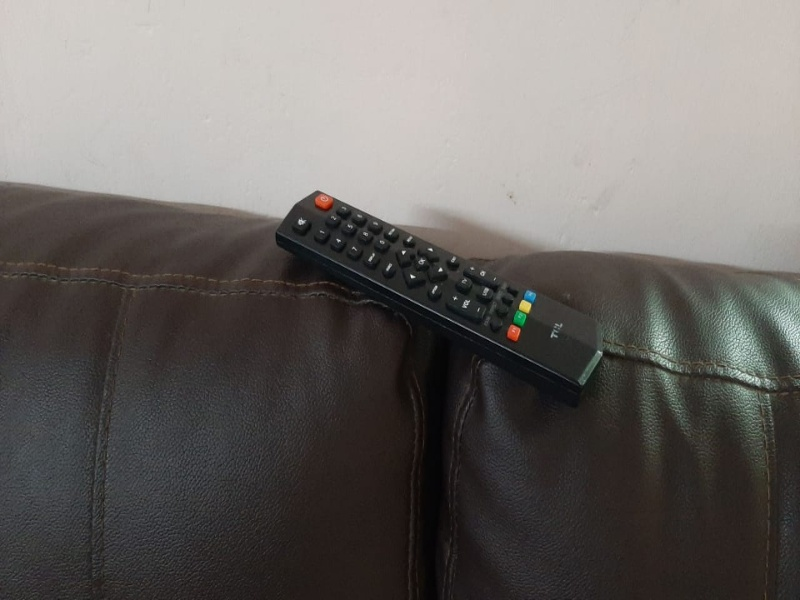remote: (267, 180, 606, 403)
